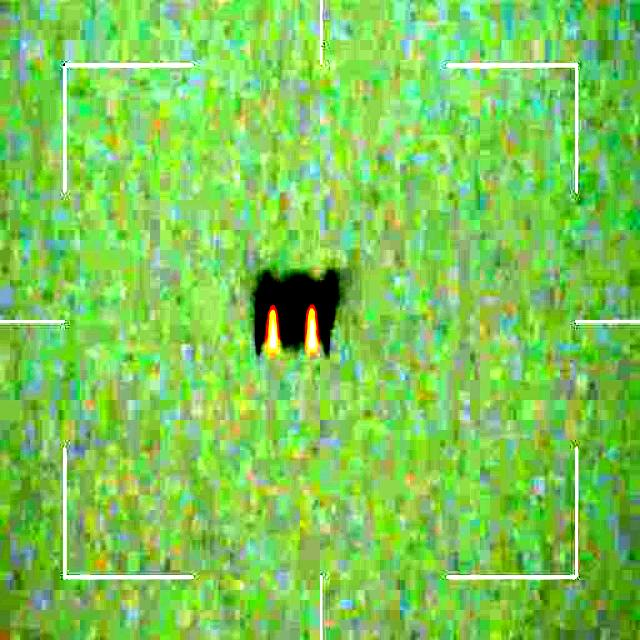bird: (251, 266, 340, 356)
